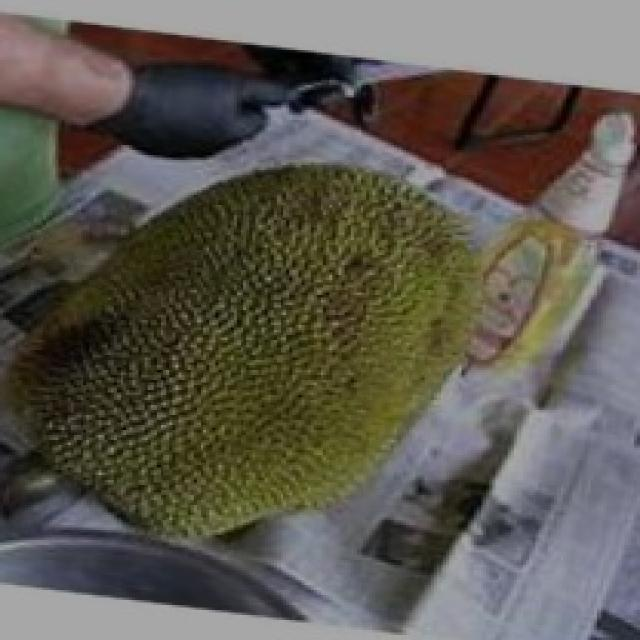Fruit: (117, 140, 523, 560)
